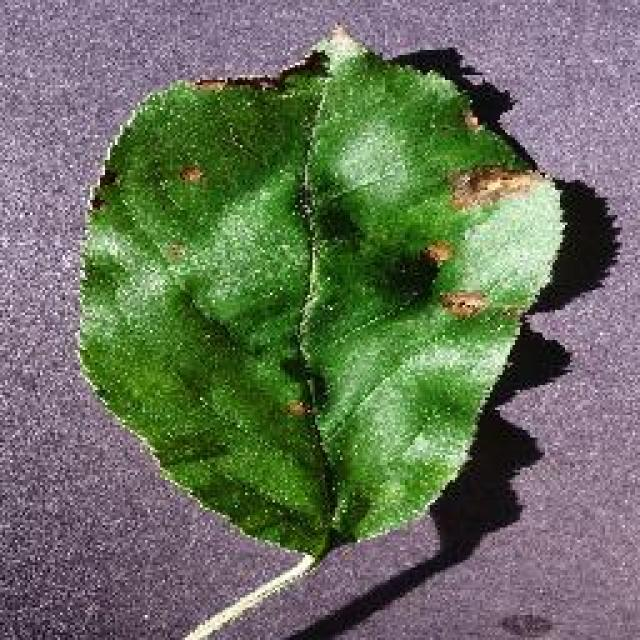apple black rot: (72, 23, 570, 565)
